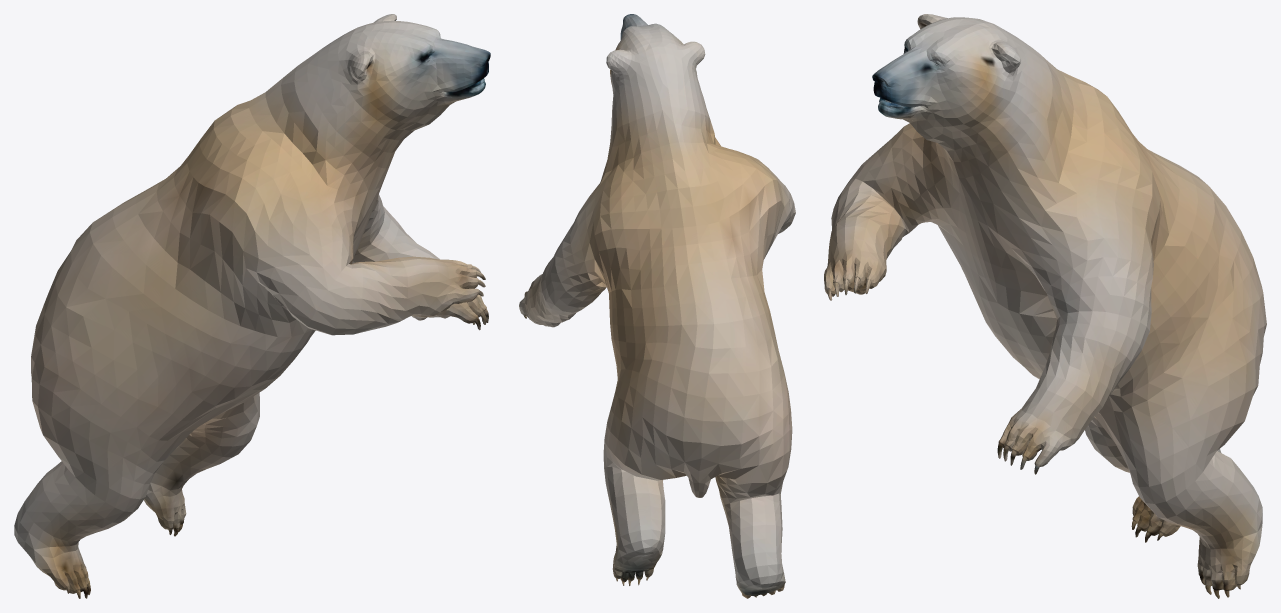
File: polarbear.mesh.glb
3 views of the same model, side by side, from view 1: azimuth 30°, elevation 25°; view 2: azimuth 150°, elevation 25°; view 3: azimuth 270°, elevation 25° (orthographic). The views are drawn at different scales.
Visible parts, largest first — view 1: root; view 2: root; view 3: root.
Part boxes in pixels (x1,y1,x2,y2): root: (14, 14, 490, 598); root: (519, 14, 795, 598); root: (824, 14, 1266, 598).
Size of the model in its own units: 0.3879 by 0.5509 by 0.3497.
1 material, 1 textured.
